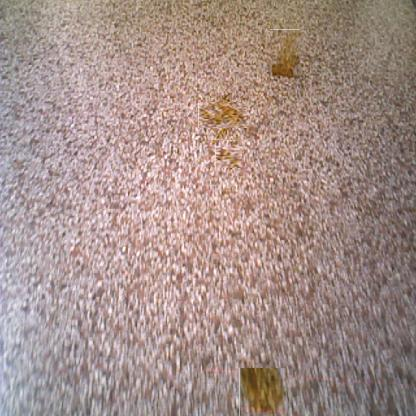liquid: (239, 368, 286, 416), (270, 29, 300, 78), (204, 97, 242, 134), (217, 145, 241, 170)
